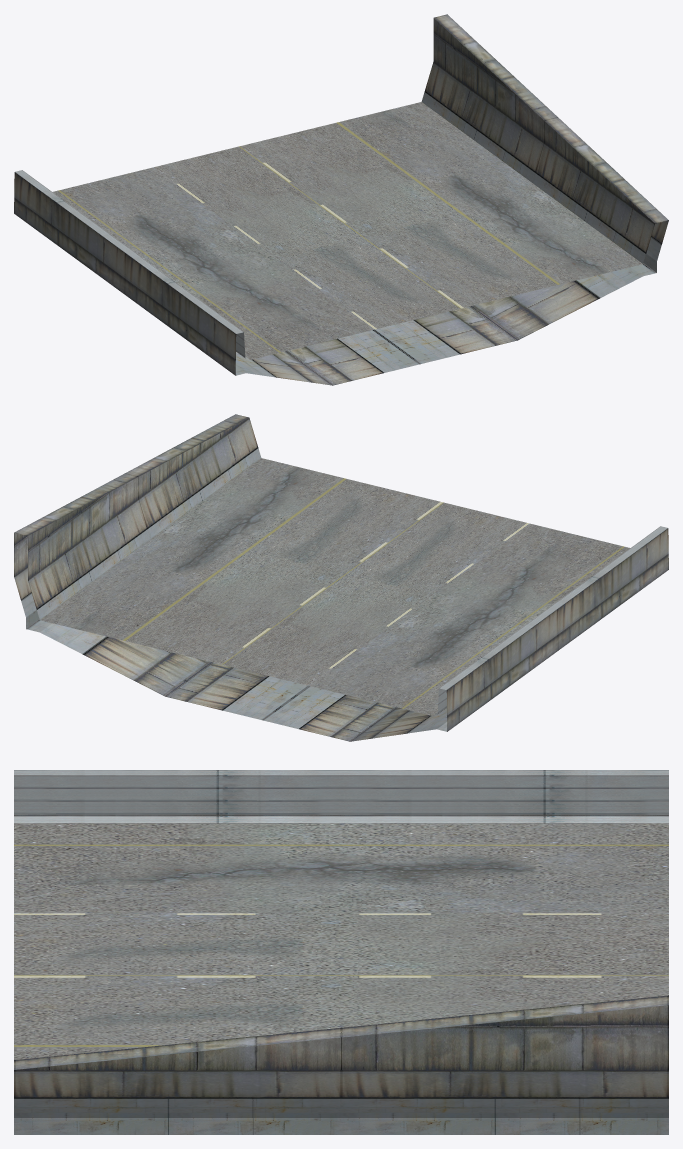
The model's file is Highway_Road_Part_03.fbx.
3 renders of one model, top to bottom at view 1: azimuth 30°, elevation 25°; view 2: azimuth 150°, elevation 25°; view 3: azimuth 270°, elevation 25°, orthographic. The views are drawn at different scales.
Parts seen in each view (by area): view 1: Highway_Road_Part_03; view 2: Highway_Road_Part_03; view 3: Highway_Road_Part_03.
Part boxes in pixels (<box>): Highway_Road_Part_03: <box>14,14,668,385</box>; Highway_Road_Part_03: <box>14,414,668,741</box>; Highway_Road_Part_03: <box>14,770,668,1134</box>.
Size of the model in its own units: 1492 by 418 by 1322.
